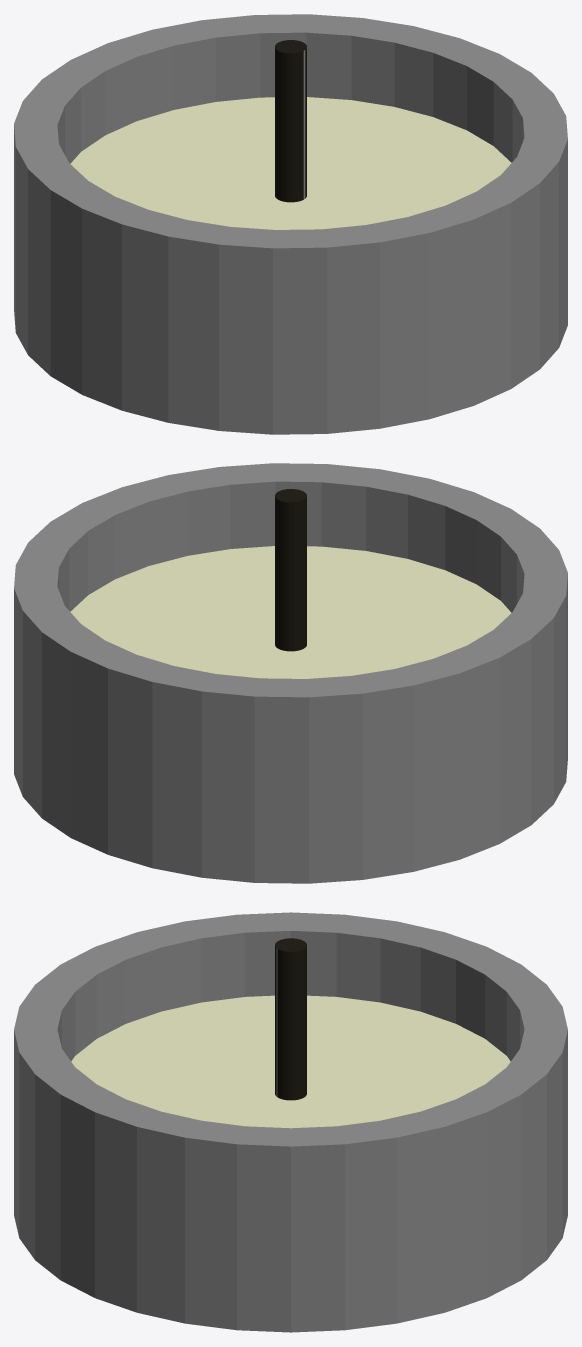
Rendered from Candle.fbx.
3 views of the same model, one above another, from view 1: azimuth 30°, elevation 25°; view 2: azimuth 150°, elevation 25°; view 3: azimuth 270°, elevation 25° (orthographic).
Visible parts, largest first — view 1: Candle; view 2: Candle; view 3: Candle.
Part boxes in pixels (x1=…): Candle: x1=14, y1=14, x2=567, y2=434; Candle: x1=14, y1=463, x2=567, y2=883; Candle: x1=14, y1=912, x2=567, y2=1332.
Bounding box in the file's own units: 53.29 × 28.69 × 53.29.
